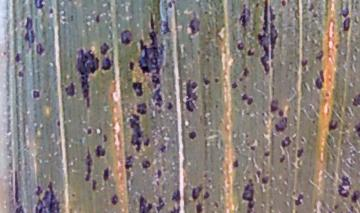tarspot: (138, 12, 164, 107), (257, 1, 278, 76), (75, 48, 100, 109), (34, 181, 61, 213), (182, 78, 199, 113), (129, 112, 142, 153), (241, 178, 256, 213), (23, 16, 36, 49), (186, 10, 201, 35), (238, 3, 251, 31), (337, 174, 351, 198), (83, 145, 92, 181), (137, 195, 154, 213), (157, 14, 171, 35), (12, 169, 20, 203), (313, 69, 325, 90), (118, 29, 133, 45), (131, 81, 144, 98), (274, 117, 288, 132), (170, 189, 183, 204), (155, 194, 165, 213), (123, 153, 134, 170), (191, 184, 202, 201), (135, 102, 149, 115), (100, 56, 111, 72), (280, 135, 292, 149), (64, 82, 76, 96), (95, 143, 106, 157), (341, 17, 352, 31), (35, 42, 45, 57), (313, 50, 325, 62), (349, 191, 360, 204), (327, 119, 338, 132), (99, 42, 110, 55), (269, 98, 278, 113), (169, 204, 183, 213), (294, 193, 304, 205), (102, 166, 110, 181), (111, 193, 120, 206), (194, 202, 204, 213), (31, 88, 41, 99), (354, 119, 360, 137), (241, 66, 250, 78), (352, 93, 360, 106), (141, 159, 151, 169), (14, 204, 25, 213), (254, 168, 261, 181), (295, 147, 304, 157), (261, 175, 270, 185), (187, 130, 197, 139), (236, 41, 245, 51), (202, 189, 210, 200), (33, 1, 44, 9), (246, 48, 255, 57), (299, 58, 308, 67), (202, 78, 211, 87), (246, 97, 255, 106), (231, 158, 239, 168), (341, 6, 349, 16), (230, 80, 238, 90), (307, 2, 315, 12), (143, 137, 150, 148), (166, 100, 173, 111), (279, 153, 286, 164), (240, 93, 248, 102), (91, 179, 97, 191), (155, 169, 163, 178), (17, 70, 25, 79), (262, 150, 271, 158), (212, 200, 220, 209), (298, 136, 307, 144), (310, 11, 319, 19), (128, 61, 135, 71), (86, 126, 93, 136), (14, 53, 21, 63), (94, 13, 100, 24), (69, 13, 75, 24), (159, 145, 167, 153), (276, 110, 284, 118), (332, 203, 341, 210), (280, 1, 288, 8), (55, 119, 62, 127), (154, 179, 161, 187), (249, 145, 257, 152), (206, 178, 214, 185), (243, 110, 251, 117), (254, 1, 261, 8), (48, 7, 55, 14), (204, 57, 212, 63), (60, 17, 68, 23), (349, 204, 354, 213), (214, 77, 220, 84), (260, 111, 266, 118), (213, 103, 220, 109), (102, 134, 107, 142), (167, 2, 172, 10), (202, 171, 207, 179), (70, 192, 75, 198), (170, 1, 176, 4)
